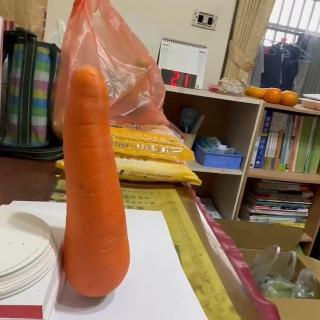carrot: (62, 65, 132, 299)
